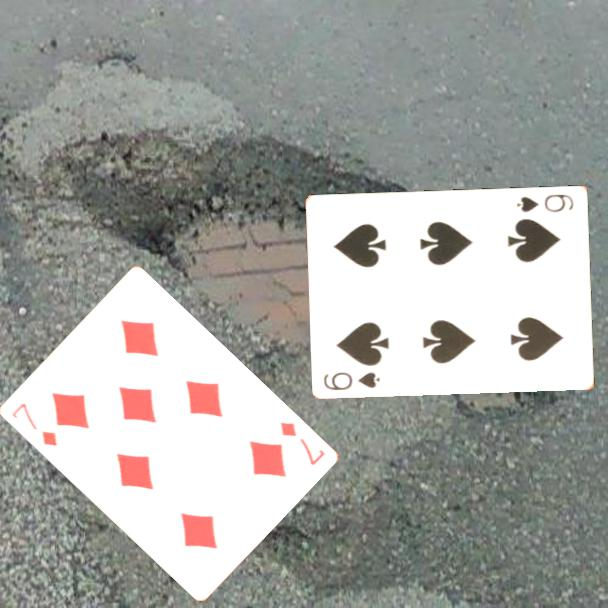d07: (276, 418, 327, 468), (8, 400, 60, 449)
s06: (320, 368, 383, 393), (514, 190, 576, 215)
